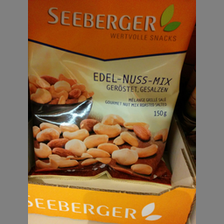nuts: (29, 1, 195, 188)
